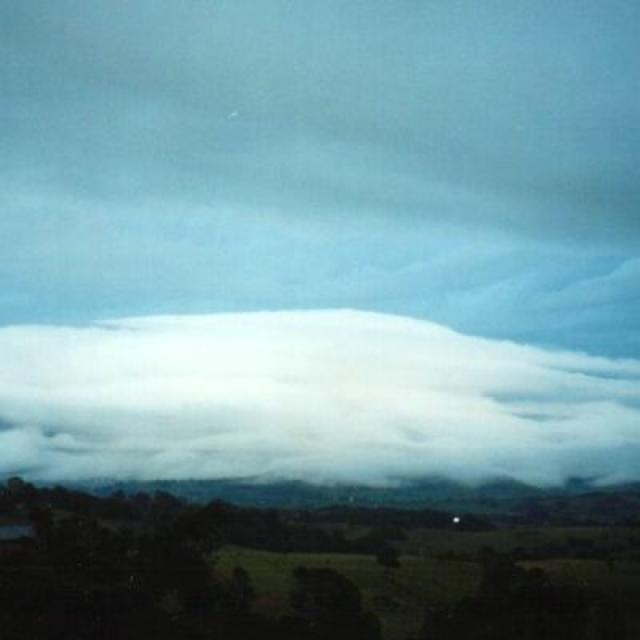St: (3, 280, 640, 505)
